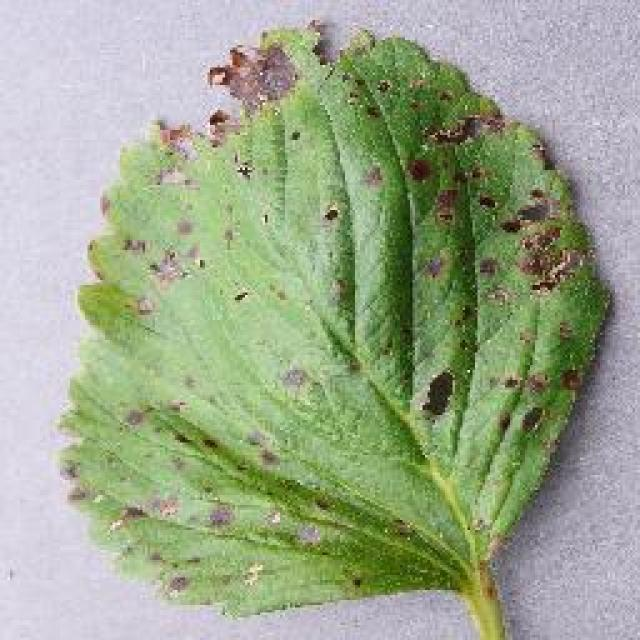Strawberry___Leaf_scorch: (37, 2, 625, 640)
